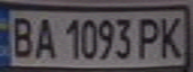0: (78, 16, 100, 61)
1: (60, 15, 81, 61)
3: (112, 15, 136, 61)
9: (97, 16, 118, 61)
A: (30, 15, 57, 61)
B: (6, 13, 39, 60)
K: (154, 13, 190, 60)
P: (133, 14, 166, 61)
